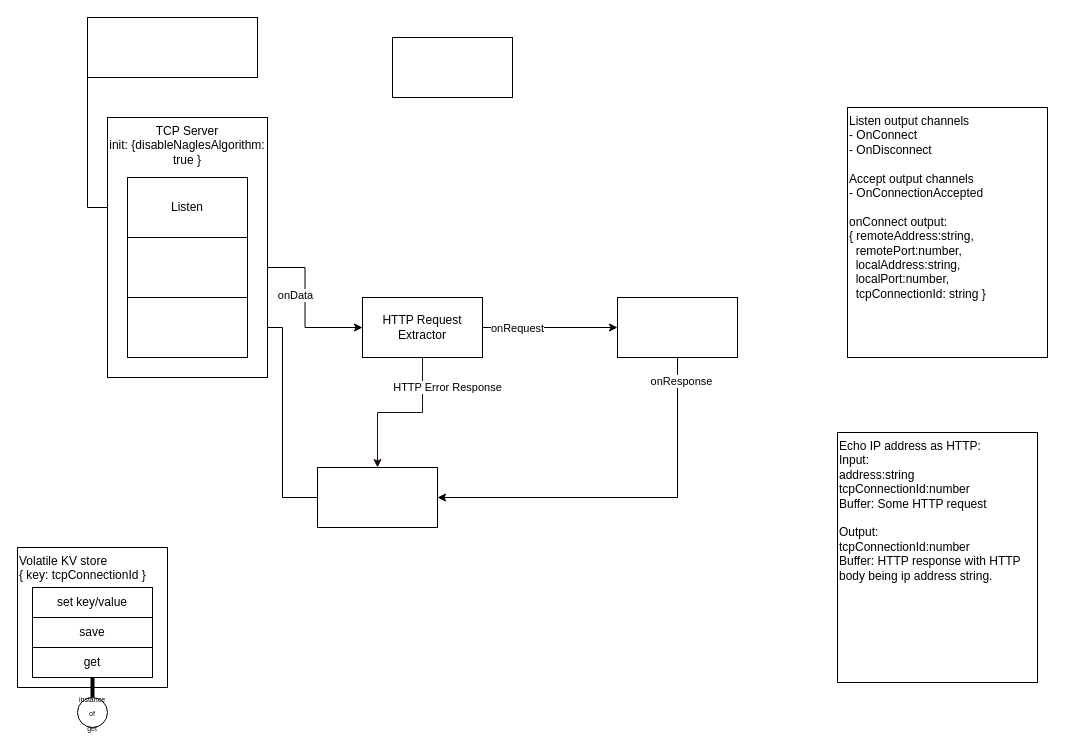
Some shapes in this 1065 by 751 pixel diagram are drawn without their labels. The box of each missing label's shape, as (x1, y1, x2, y2) in pixels:
HTTP Response With Address as body: (616, 296, 738, 358)
HTTP Response Writer: (316, 466, 438, 528)
Send Once { listenOnPort: 8080 }: (86, 16, 258, 78)
TCP Receive: (126, 236, 248, 298)
TCP Send: (126, 296, 248, 358)
